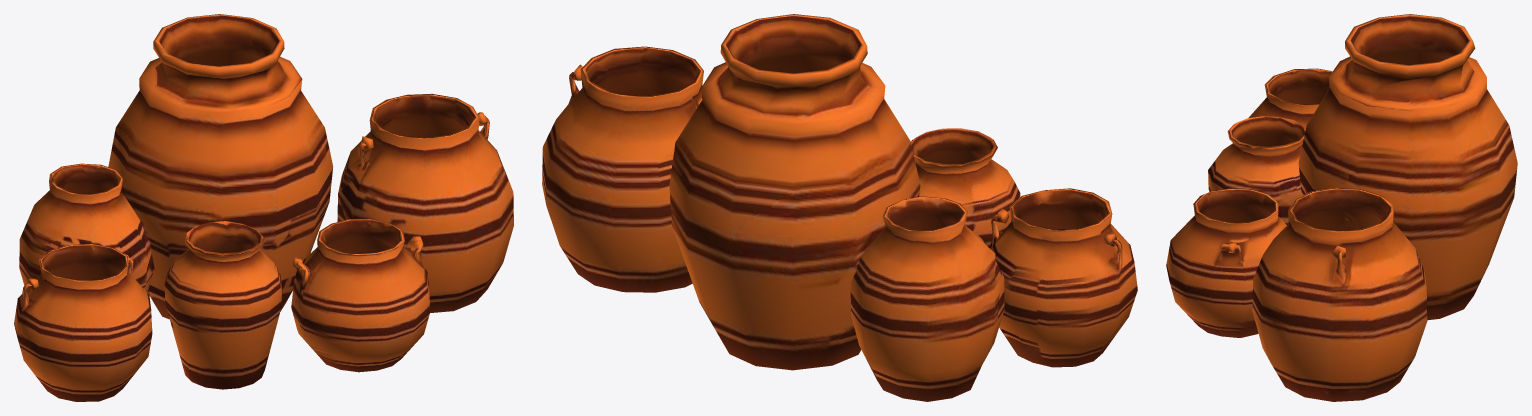
File: clayPots.glb
The picture shows the model from 3 angles, left to right: view 1: azimuth 30°, elevation 25°; view 2: azimuth 150°, elevation 25°; view 3: azimuth 270°, elevation 25°; orthographic projection. The views are drawn at different scales.
Bounding box in the file's own units: 0.9565 × 0.4883 × 0.6069.
Materials: 1 (1 with a texture image).
